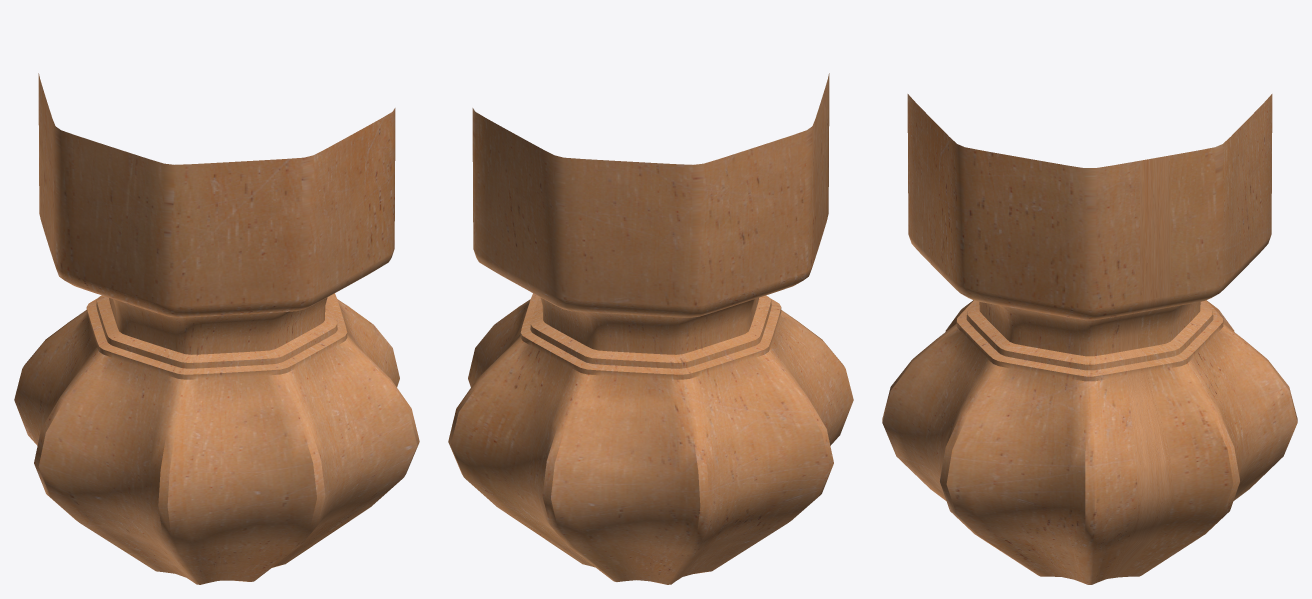
The model's file is feet.glb.
The picture shows the model from 3 angles, left to right: view 1: azimuth 30°, elevation 25°; view 2: azimuth 150°, elevation 25°; view 3: azimuth 270°, elevation 25°; orthographic projection.
Visible parts, largest first — view 1: Wood_Object; view 2: Wood_Object; view 3: Wood_Object.
Boxes of the visible parts, x1,y1,x2,y2 form: Wood_Object: (14,73,419,584); Wood_Object: (448,73,853,584); Wood_Object: (882,94,1297,584).
Size of the model in its own units: 0.1144 by 0.1412 by 0.1144.
1 material, 1 textured.
